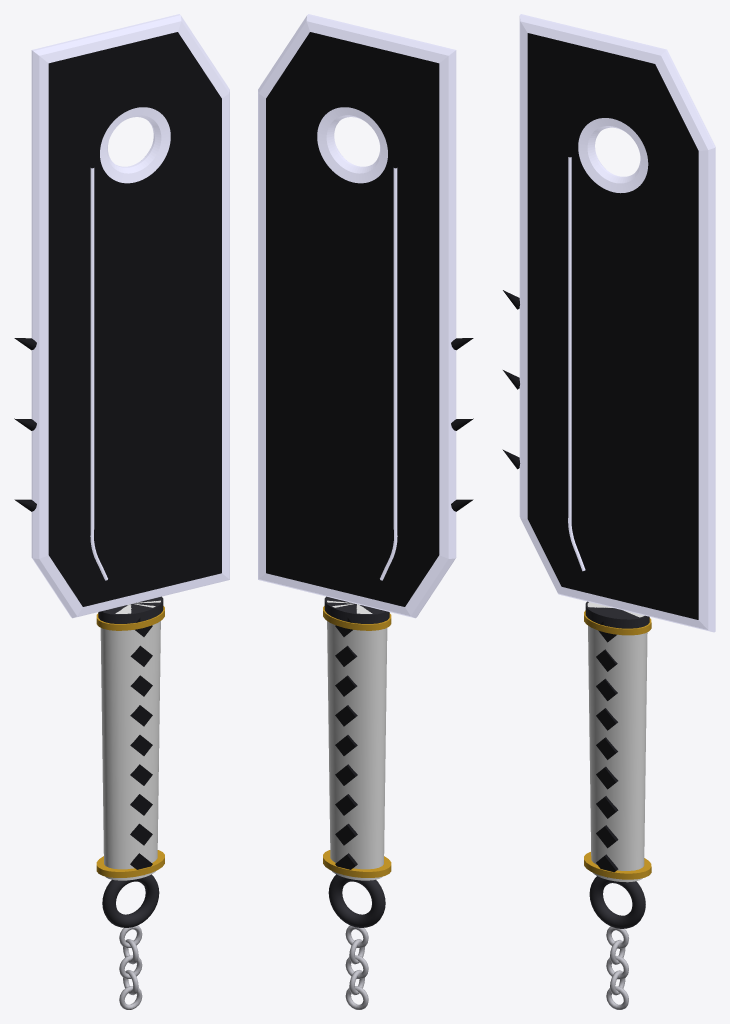
File: 23_Epic_Shadow_Cleaver.glb
3 views of the same model, side by side, from view 1: azimuth 30°, elevation 25°; view 2: azimuth 150°, elevation 25°; view 3: azimuth 330°, elevation 25° (orthographic).
Parts seen in each view (by area): view 1: blade_0, handle_1, blade_inlay_28, pommel_ring_21, ferrule_20, grip_ring_33, grip_ring_32; view 2: blade_0, handle_1, blade_inlay_27, pommel_ring_21, ferrule_20, grip_ring_33, grip_ring_32; view 3: blade_0, handle_1, blade_inlay_28, pommel_ring_21, ferrule_20, grip_ring_33, grip_ring_32.
Part boxes in pixels (x1=…): blade_0: x1=31, y1=14, x2=229, y2=618; handle_1: x1=100, y1=600, x2=160, y2=880; blade_inlay_28: x1=90, y1=168, x2=107, y2=580; pommel_ring_21: x1=102, y1=874, x2=159, y2=927; ferrule_20: x1=98, y1=596, x2=163, y2=623; grip_ring_33: x1=96, y1=850, x2=164, y2=877; grip_ring_32: x1=96, y1=606, x2=164, y2=630; blade_0: x1=258, y1=14, x2=456, y2=618; handle_1: x1=327, y1=600, x2=387, y2=880; blade_inlay_27: x1=380, y1=168, x2=397, y2=580; pommel_ring_21: x1=328, y1=874, x2=385, y2=927; ferrule_20: x1=324, y1=596, x2=389, y2=623; grip_ring_33: x1=323, y1=850, x2=391, y2=877; grip_ring_32: x1=323, y1=606, x2=391, y2=630; blade_0: x1=519, y1=14, x2=715, y2=632; handle_1: x1=587, y1=602, x2=647, y2=882; blade_inlay_28: x1=568, y1=157, x2=585, y2=571; pommel_ring_21: x1=589, y1=876, x2=645, y2=928; ferrule_20: x1=585, y1=601, x2=649, y2=628; grip_ring_33: x1=584, y1=852, x2=651, y2=879; grip_ring_32: x1=584, y1=610, x2=651, y2=635.
Bounding box in the file's own units: 0.2187 × 0.9545 × 0.0442.
Materials: 8 (8 with a texture image).
